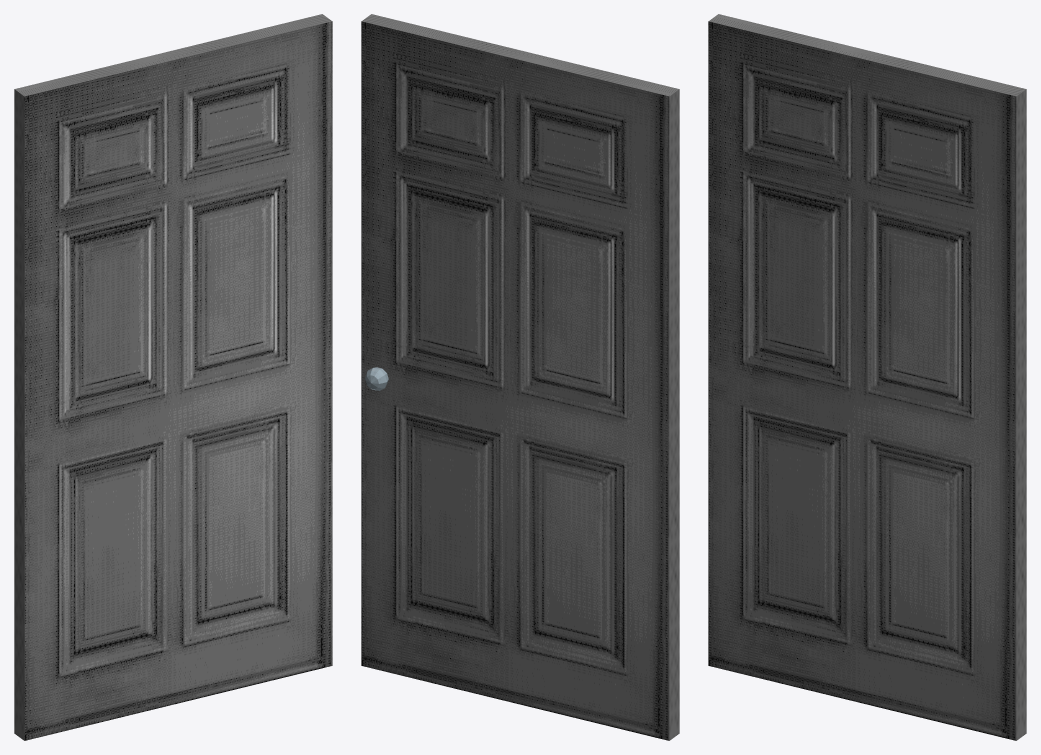
The model's file is door_06.glb.
3 renders of one model, left to right at view 1: azimuth 30°, elevation 25°; view 2: azimuth 150°, elevation 25°; view 3: azimuth 330°, elevation 25°, orthographic.
Parts seen in each view (by area): view 1: pSphere6.001; view 2: pSphere6.001; view 3: pSphere6.001.
Part boxes in pixels (bbox=[...]): pSphere6.001: bbox=[14, 14, 332, 740]; pSphere6.001: bbox=[361, 14, 679, 740]; pSphere6.001: bbox=[708, 14, 1026, 740].
Size of the model in its own units: 1.05 by 2.1 by 0.1192.
2 materials, 2 textured.
